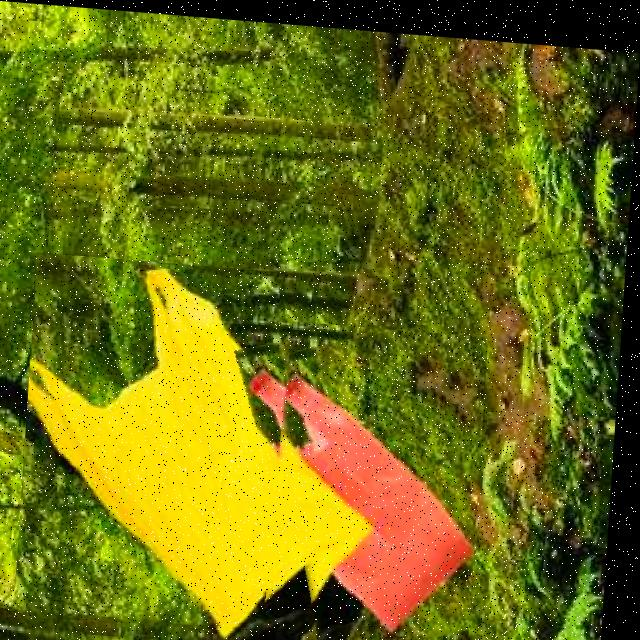plasticcover: (22, 250, 345, 631), (269, 314, 493, 640)
